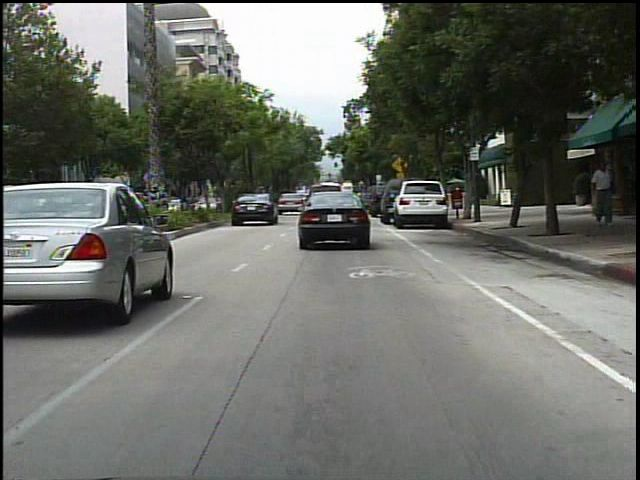person: (586, 159, 614, 231)
